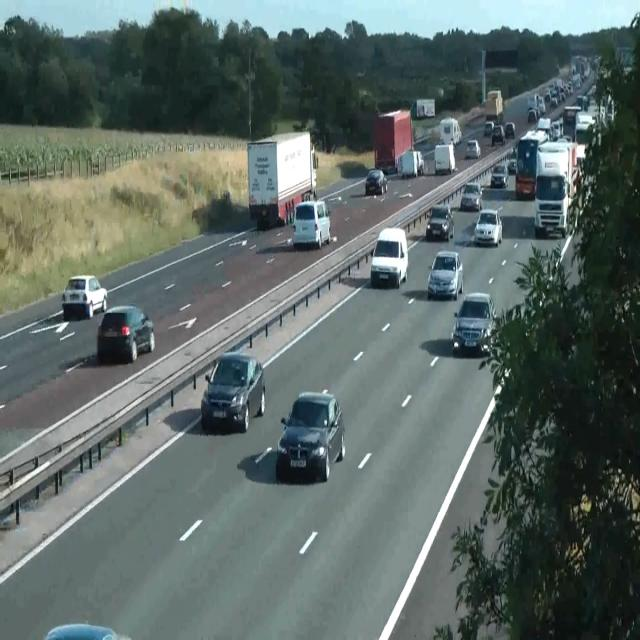bus: (277, 388, 345, 482), (43, 622, 131, 639), (426, 203, 454, 241), (474, 209, 502, 246), (364, 168, 388, 196), (460, 182, 482, 212), (490, 164, 508, 188), (464, 140, 480, 159), (505, 122, 515, 138), (484, 121, 494, 136), (507, 159, 517, 173)
jeep: (200, 350, 266, 432), (96, 304, 154, 363), (452, 292, 496, 354), (370, 227, 408, 288), (61, 274, 108, 320), (292, 199, 331, 249), (427, 250, 463, 300), (491, 124, 505, 146)
minibus: (246, 130, 318, 229), (534, 140, 580, 238), (372, 109, 412, 174), (514, 130, 548, 199), (397, 148, 424, 178), (439, 116, 462, 146), (434, 143, 455, 174), (484, 90, 504, 122), (410, 98, 435, 119)
